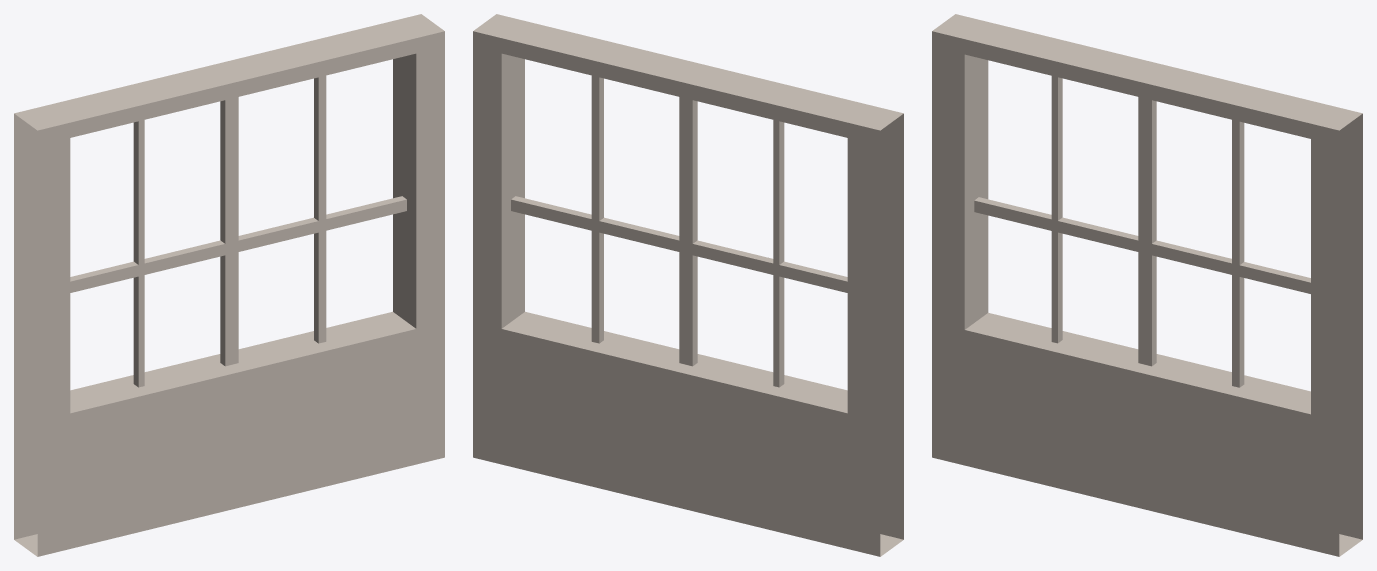
File: Classroom_WallWindow.fbx
3 views of the same model, side by side, from view 1: azimuth 30°, elevation 25°; view 2: azimuth 150°, elevation 25°; view 3: azimuth 330°, elevation 25° (orthographic).
Visible parts, largest first — view 1: Wall_Window; view 2: Wall_Window; view 3: Wall_Window.
Part boxes in pixels (x1=…): Wall_Window: x1=14, y1=14, x2=444, y2=556; Wall_Window: x1=473, y1=14, x2=903, y2=556; Wall_Window: x1=932, y1=14, x2=1362, y2=556.
Bounding box in the file's own units: 10 × 10 × 1.
